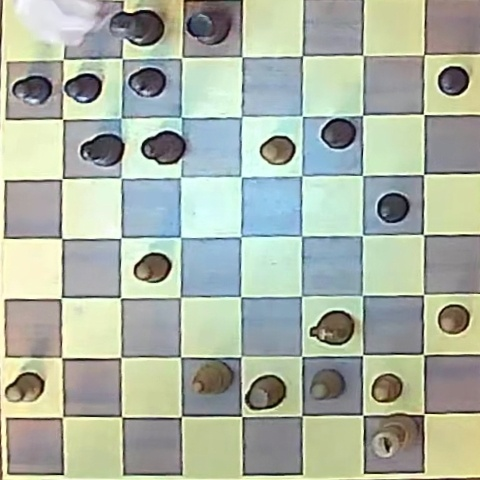black-bishop: (142, 130, 185, 165), (80, 133, 124, 167)
black-king: (110, 9, 164, 47)
black-pawn: (12, 75, 52, 106), (64, 72, 103, 103), (128, 67, 166, 97), (321, 118, 356, 149), (377, 192, 410, 223), (438, 66, 470, 96)
black-rook: (186, 9, 231, 45)
white-bishop: (191, 361, 232, 394)
white-king: (371, 416, 417, 460)
white-knight: (309, 311, 353, 345)
white-pawn: (5, 372, 44, 403), (134, 253, 171, 283), (310, 369, 344, 400), (260, 135, 295, 165), (437, 305, 469, 334), (372, 374, 403, 403)
white-rook: (245, 375, 286, 410)
